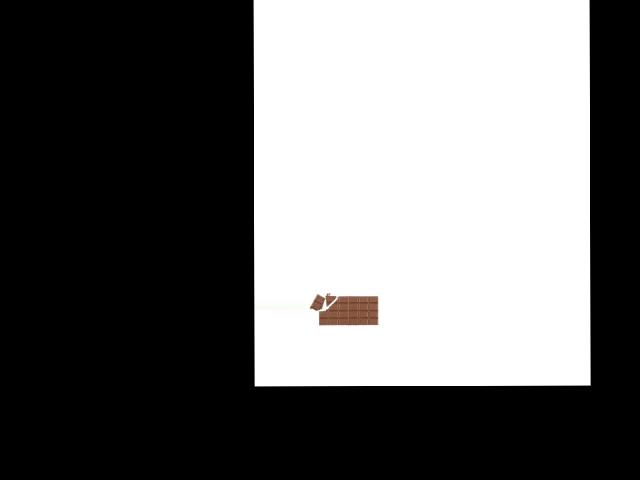chocolate: (309, 286, 379, 330)
